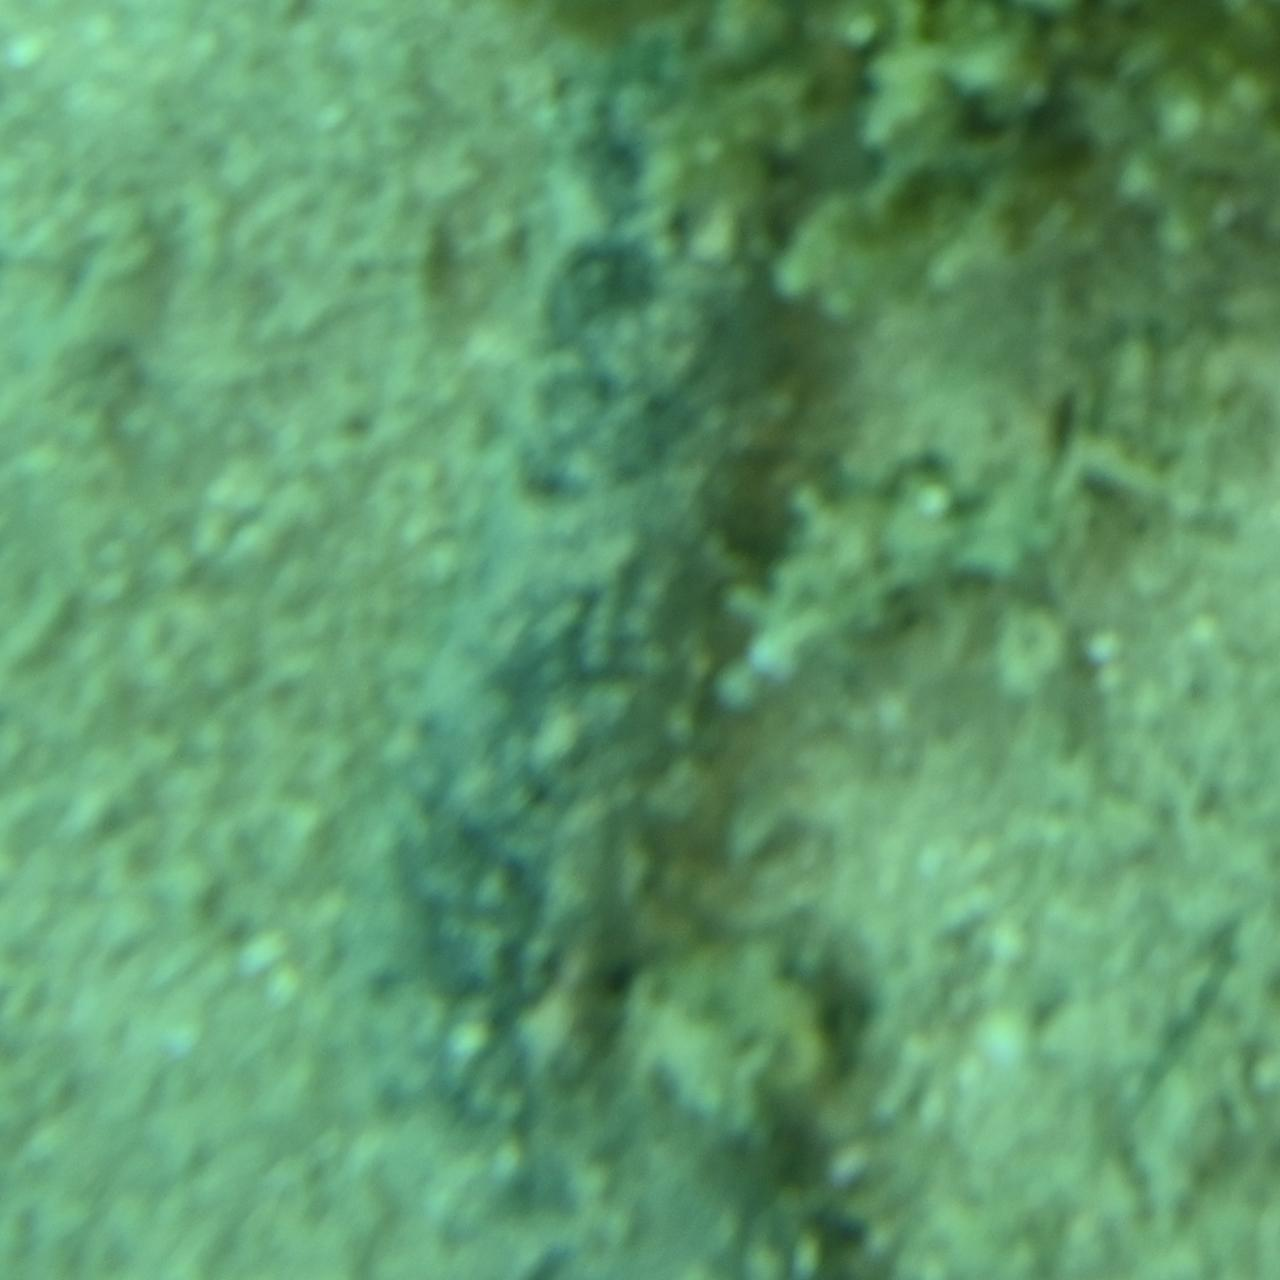Holothuria tubulosa: (392, 76, 888, 1276)
